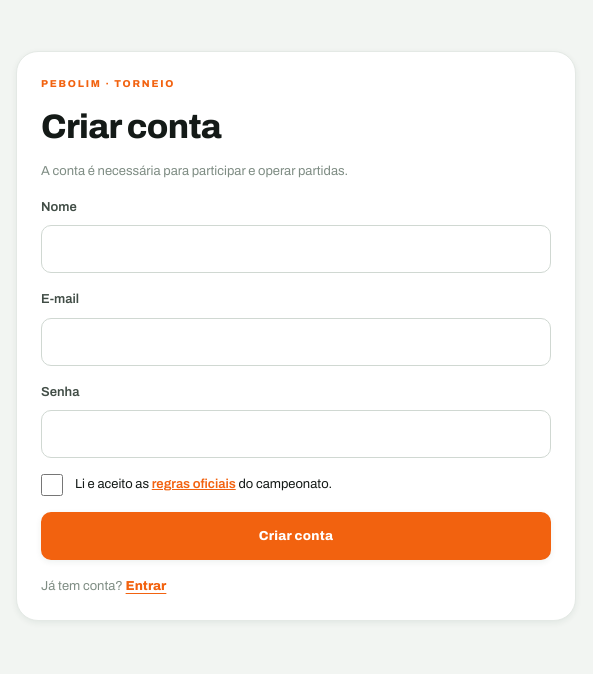
Test: aceite no cadastro › impede criar conta antes de aceitar as regras
Type "Pati" into the field labelled "Nome".
click(296, 249); type("Pati")  # box [41,225,551,273]
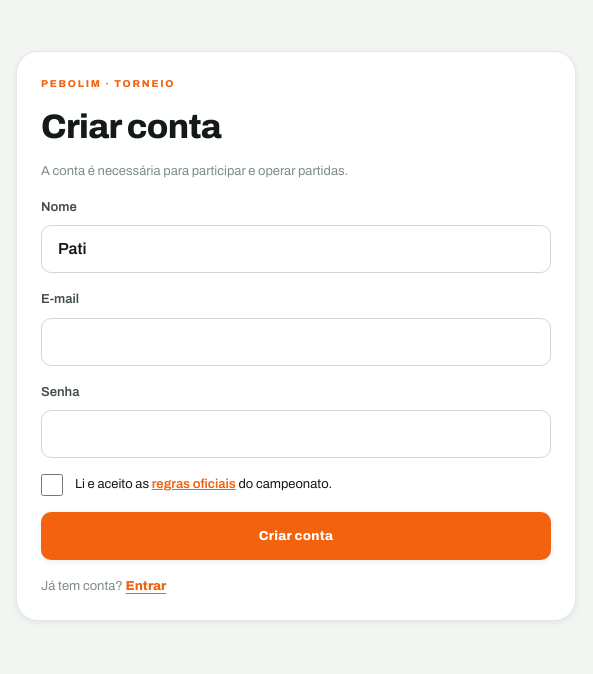
Type "pati@example.test" into the field labelled "E-mail".
click(296, 342); type("pati@example.test")  # box [41,318,551,366]
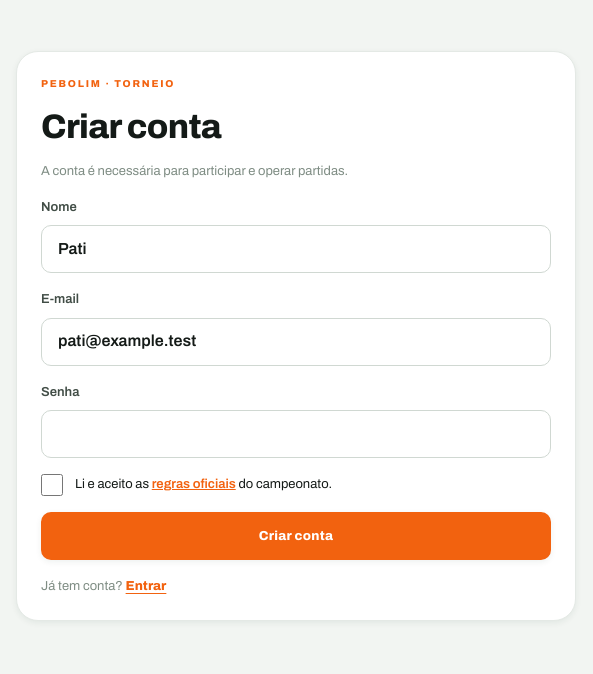
Type "senha123" into the password field labelled "Senha".
click(296, 434); type("senha123")  # box [41,410,551,458]
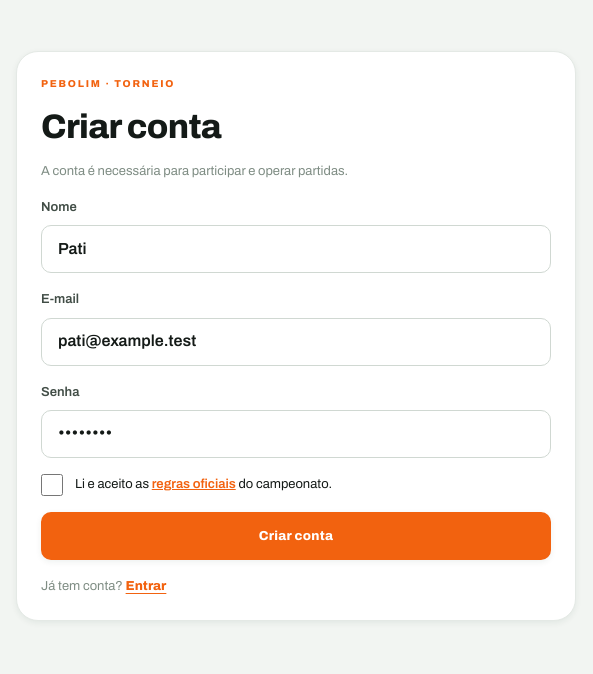
Click the button "Criar conta".
click(296, 536)  # box [41,512,551,560]
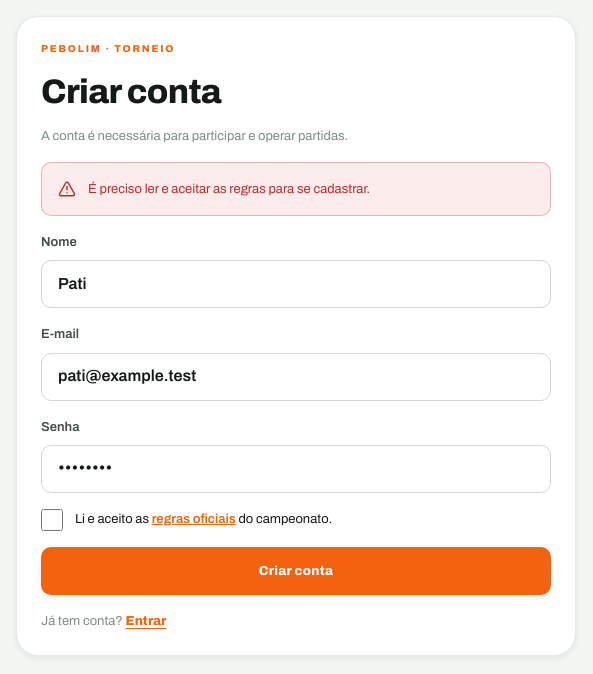
Check: the text "É preciso ler e aceitar as regras para se cadastrar." is shown, box [88,179,370,199]
